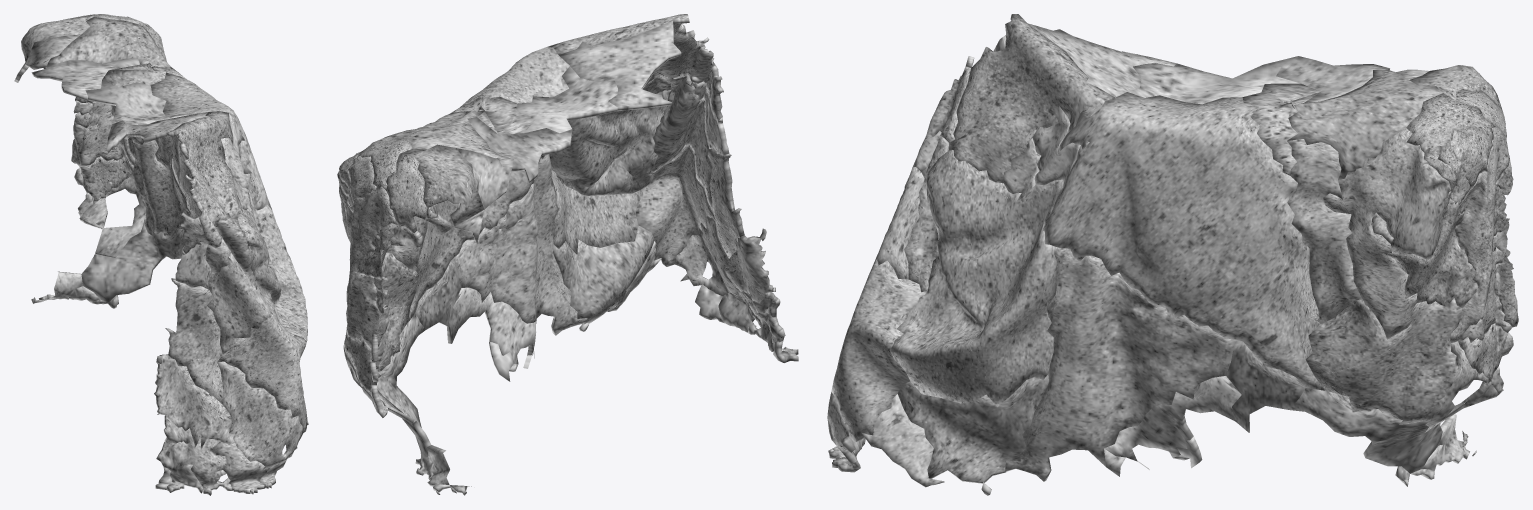
File: Motor02.glb
3 renders of one model, left to right at view 1: azimuth 30°, elevation 25°; view 2: azimuth 150°, elevation 25°; view 3: azimuth 270°, elevation 25°, orthographic. The views are drawn at different scales.
Parts seen in each view (by area): view 1: Mesh_0; view 2: Mesh_0; view 3: Mesh_0.
Boxes of the visible parts, x1,y1,x2,y2 form: Mesh_0: (14, 14, 308, 495); Mesh_0: (337, 14, 798, 495); Mesh_0: (827, 14, 1518, 495).
Bounding box in the file's own units: 0.5365 × 0.8032 × 1.16.
1 material, 1 textured.
